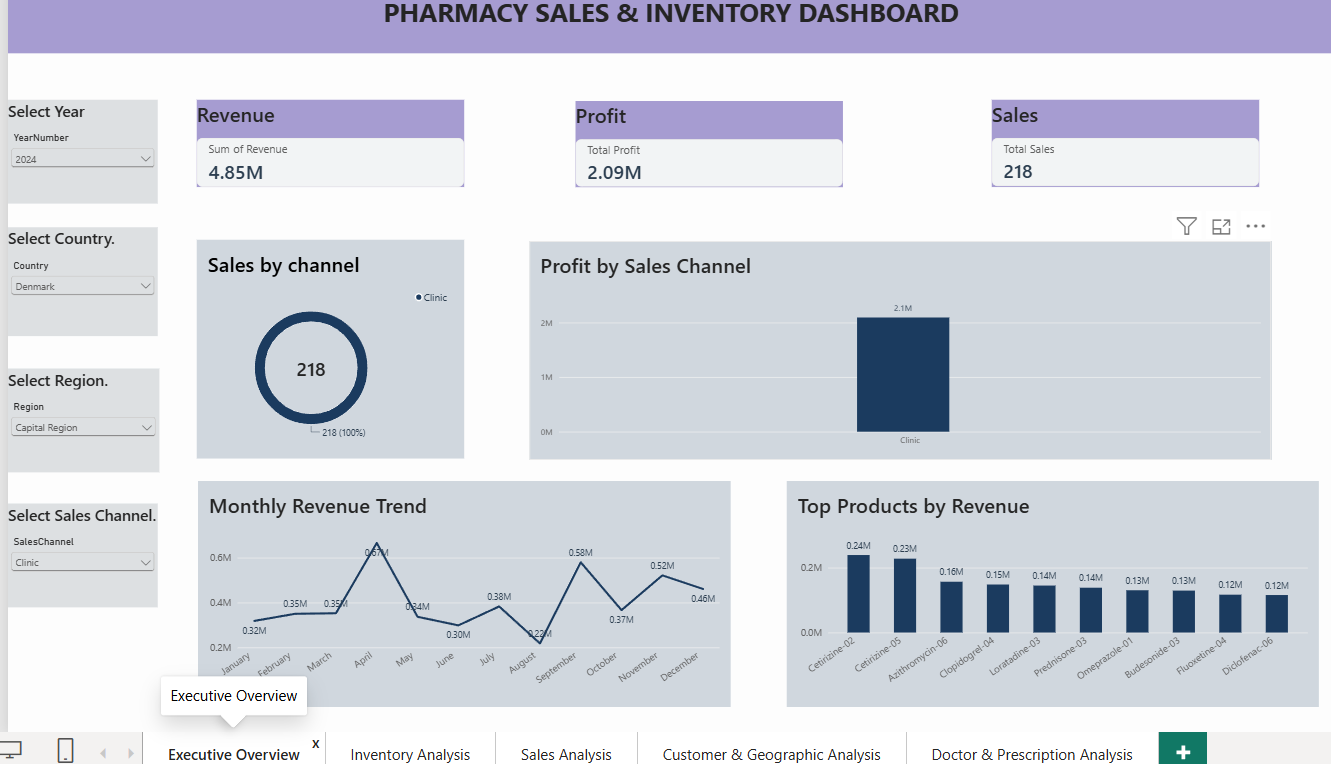

The page's visual inventory and layout, read from the dashboard file:
{"tool":"powerbi","page":{"name":"Executive Overview","canvas":[1920,1080],"ordinal":0},"visuals":[{"type":"textbox","box":[0,12.7,1920.1,85.1],"z":0},{"type":"cardVisual","title":"Revenue","fields":{"Data":["Sum(FactSales.Revenue)"]},"box":[273.3,164.7,387.3,126.7],"z":1000},{"type":"cardVisual","title":"Profit","fields":{"Data":["FactSales.Total Profit"]},"box":[820.8,166.5,387,125],"z":2000},{"type":"cardVisual","title":"Sales","fields":{"Data":["FactSales.Total Sales"]},"box":[1424.2,164.7,387,126],"z":3000},{"type":"lineChart","title":"Monthly Revenue Trend","fields":{"Category":["DimDate.MonthName"],"Y":["Sum(FactSales.Revenue)"]},"box":[275.1,716.6,770.9,327.5],"z":4000},{"type":"clusteredColumnChart","title":"Top Products by Revenue","fields":{"Category":["DimProduct.ProductName"],"Y":["Sum(FactSales.Revenue)"]},"box":[1127.4,716.6,770,327],"z":5000},{"type":"donutChart","title":"Sales by channel","fields":{"Category":["FactSales.SalesChannel"],"Y":["FactSales.Total Sales"]},"box":[273.3,367.4,387.3,316.7],"z":6000},{"type":"clusteredColumnChart","title":"Profit by Sales Channel","fields":{"Category":["FactSales.SalesChannel"],"Y":["FactSales.Total Profit"]},"box":[754.6,369.2,1074.9,316.7],"z":7000},{"type":"slicer","title":"Select Year","fields":{"Values":["DimDate.YearNumber"]},"box":[0,165,217,150],"z":7001},{"type":"slicer","title":"Select Country.","fields":{"Values":["DimLocation.Country"]},"box":[0,349.3,217.2,157.4],"z":7002},{"type":"slicer","title":"Select Region.","fields":{"Values":["DimLocation.Region"]},"box":[0,553.8,219,150.2],"z":7003},{"type":"slicer","title":"Select Sales Channel.","fields":{"Values":["FactSales.SalesChannel"]},"box":[0,749.2,217.2,150.2],"z":7004}]}

Visuals, with their boxes on the page's 1920x1080 design canvas (x1, y1, x2, y2). These are canvas units, not pixel positions in the 1331x764 screenshot, which may show the page scaled, cropped or inside an application window:
textbox: box=[0, 13, 1920, 98]
"Revenue" cardVisual: box=[273, 165, 661, 291]
"Profit" cardVisual: box=[821, 166, 1208, 292]
"Sales" cardVisual: box=[1424, 165, 1811, 291]
"Monthly Revenue Trend" lineChart: box=[275, 717, 1046, 1044]
"Top Products by Revenue" clusteredColumnChart: box=[1127, 717, 1897, 1044]
"Sales by channel" donutChart: box=[273, 367, 661, 684]
"Profit by Sales Channel" clusteredColumnChart: box=[755, 369, 1830, 686]
"Select Year" slicer: box=[0, 165, 217, 315]
"Select Country." slicer: box=[0, 349, 217, 507]
"Select Region." slicer: box=[0, 554, 219, 704]
"Select Sales Channel." slicer: box=[0, 749, 217, 899]
